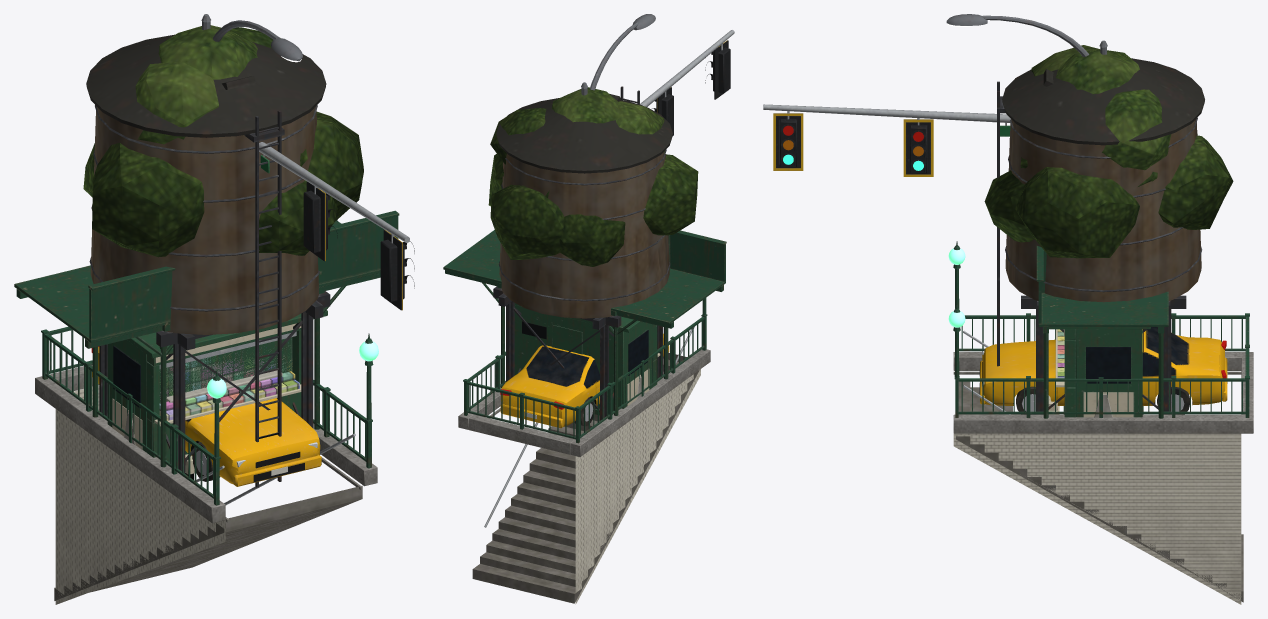
Rendered from city_props.glb.
The picture shows the model from 3 angles, left to right: view 1: azimuth 30°, elevation 25°; view 2: azimuth 150°, elevation 25°; view 3: azimuth 270°, elevation 25°; orthographic projection. The views are drawn at different scales.
Visible parts, largest first — view 1: water_tank, subway_entrance, tree, sidewalk_shed, newsstand, taxi, traffic_signal, streetlight, hvac_unit; view 2: subway_entrance, water_tank, tree, sidewalk_shed, newsstand, taxi, traffic_signal, streetlight; view 3: subway_entrance, water_tank, tree, taxi, newsstand, traffic_signal, sidewalk_shed, streetlight.
Boxes of the visible parts, <box> form: water_tank: <box>86,34,330,487</box>; subway_entrance: <box>35,326,378,604</box>; tree: <box>83,25,363,257</box>; sidewalk_shed: <box>14,210,399,467</box>; newsstand: <box>107,310,327,474</box>; taxi: <box>91,346,321,486</box>; traffic_signal: <box>259,142,414,310</box>; streetlight: <box>201,14,302,62</box>; hvac_unit: <box>166,370,282,402</box>; subway_entrance: <box>458,298,710,604</box>; water_tank: <box>493,86,672,420</box>; tree: <box>488,87,698,266</box>; sidewalk_shed: <box>443,230,726,415</box>; newsstand: <box>514,303,660,415</box>; taxi: <box>500,333,669,428</box>; traffic_signal: <box>640,30,734,135</box>; streetlight: <box>581,14,655,95</box>; subway_entrance: <box>948,241,1253,604</box>; water_tank: <box>997,58,1204,414</box>; tree: <box>984,45,1233,258</box>; taxi: <box>979,327,1227,414</box>; newsstand: <box>1048,327,1150,417</box>; traffic_signal: <box>763,104,1010,176</box>; sidewalk_shed: <box>1036,246,1168,418</box>; streetlight: <box>946,14,1107,56</box>.
Size of the model in its own units: 6 by 12.38 by 9.8.
2 materials, 2 textured.
